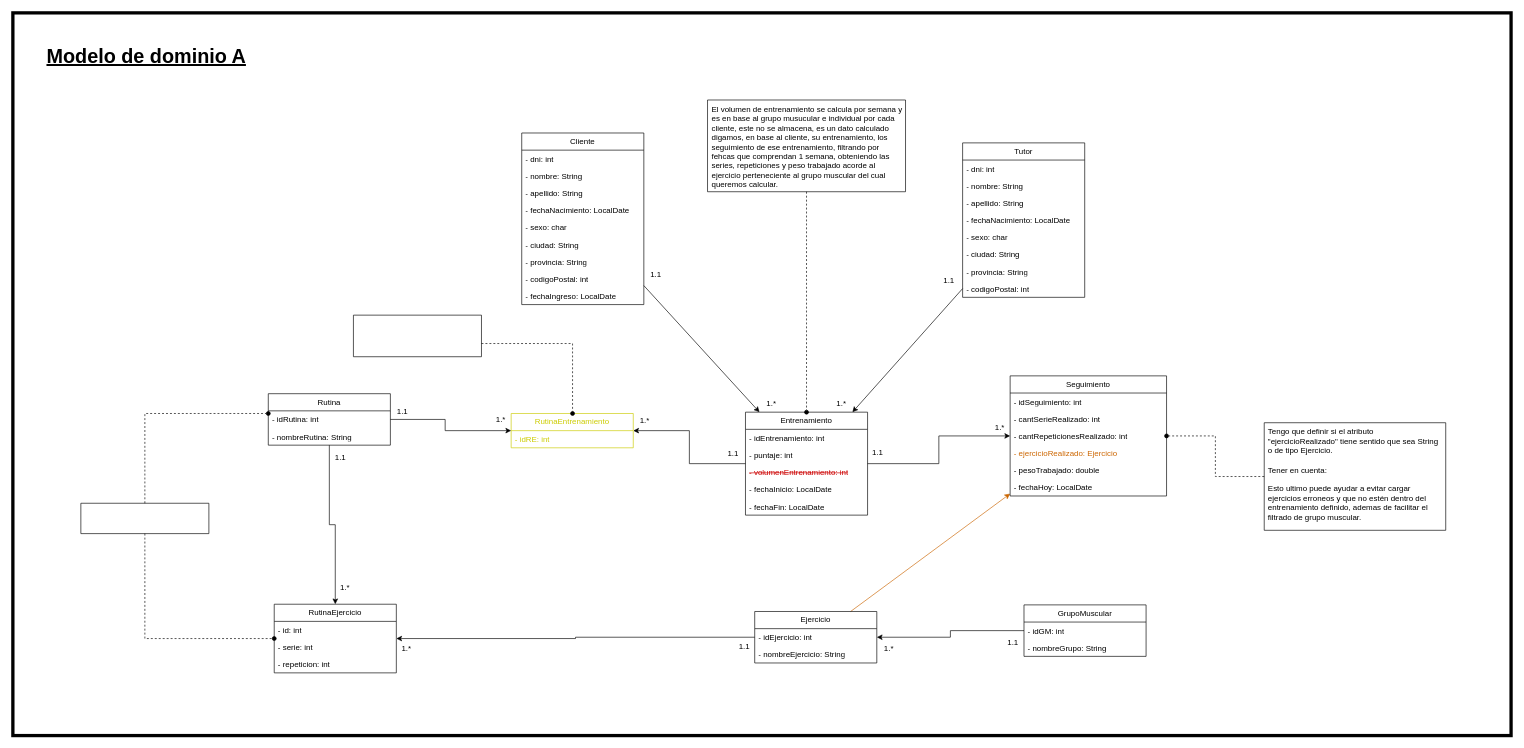
The diagram is 1524 pixels wide and 748 high, and some of its shapes have lost their labels. The centre of each missing label's shape, as x and y in pixels:
Actuan y se manejan en conjunto: [144,518]
Entidad intermedia para asociar varias rutinas a varios entrenamientos.: [417,335]
